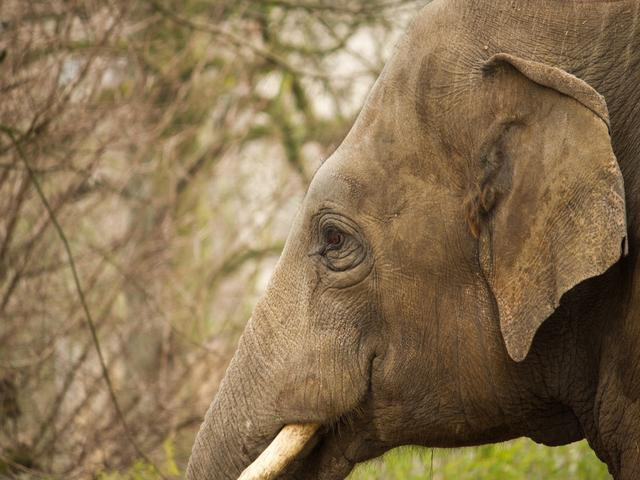elephant: (153, 11, 630, 475)
